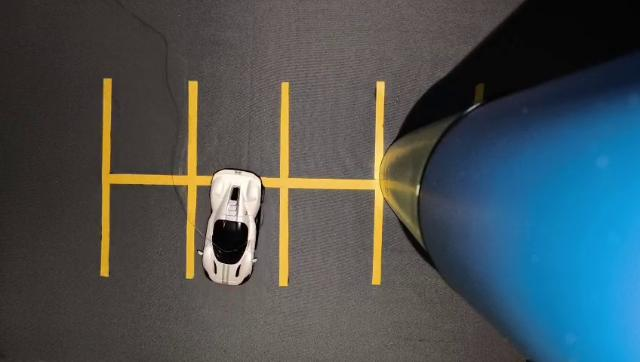toy_car: (188, 152, 291, 310)
